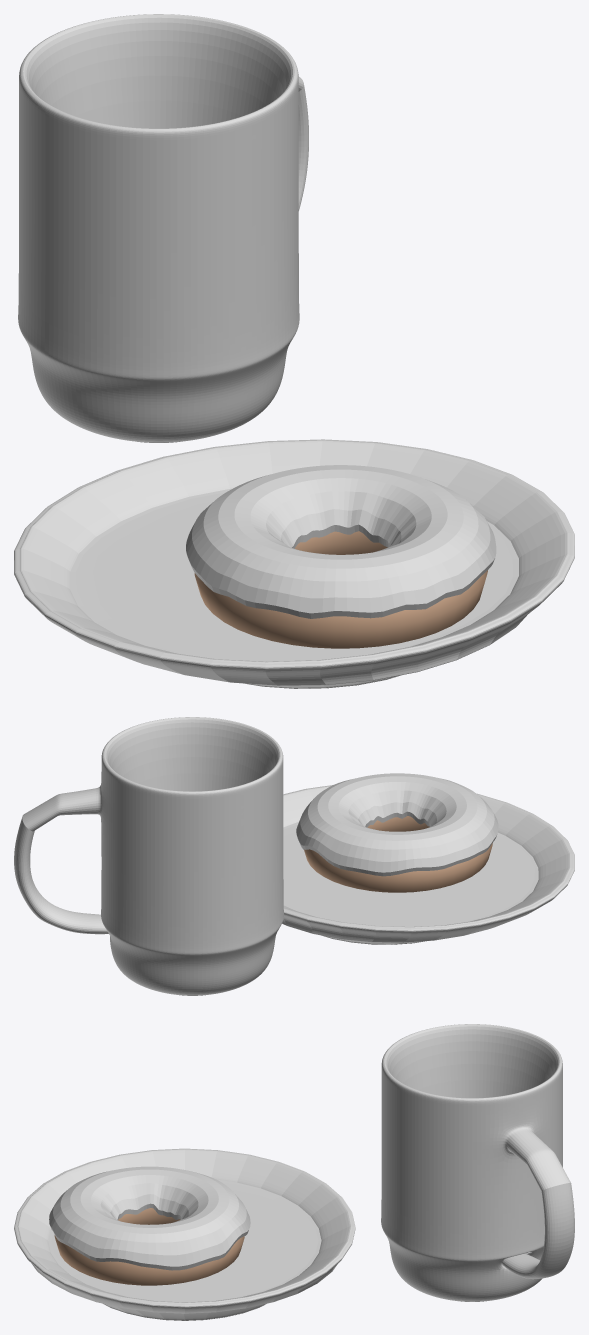
The model's file is tabletop.gltf.
3 renders of one model, top to bottom at view 1: azimuth 30°, elevation 25°; view 2: azimuth 150°, elevation 25°; view 3: azimuth 270°, elevation 25°, orthographic. The views are drawn at different scales.
Visible parts, largest first — view 1: Mug, Plate, Frosting, Donut; view 2: Mug, Plate, Frosting, Donut; view 3: Mug, Plate, Frosting, Donut.
Part boxes in pixels (<box>): Mug: <box>18,14,308,442</box>; Plate: <box>14,439,574,688</box>; Frosting: <box>186,465,496,618</box>; Donut: <box>194,531,487,648</box>; Mug: <box>14,717,283,995</box>; Plate: <box>282,785,574,944</box>; Frosting: <box>296,773,498,876</box>; Donut: <box>304,816,492,892</box>; Mug: <box>381,1024,574,1301</box>; Plate: <box>14,1148,355,1320</box>; Frosting: <box>49,1166,250,1270</box>; Donut: <box>54,1208,244,1285</box>.
Size of what is drawn, in the model's own units: 2.77 by 1.79 by 3.81.
